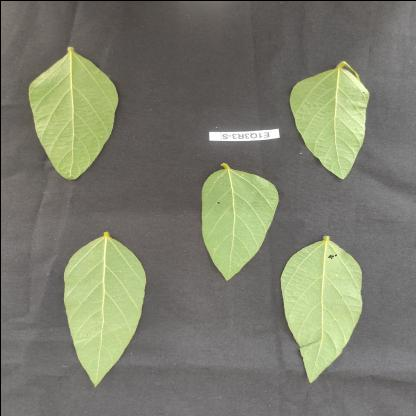label: (202, 115, 307, 144)
leaflets: (6, 43, 136, 198), (42, 230, 158, 390), (280, 232, 372, 388), (180, 164, 282, 288), (284, 59, 378, 183)
